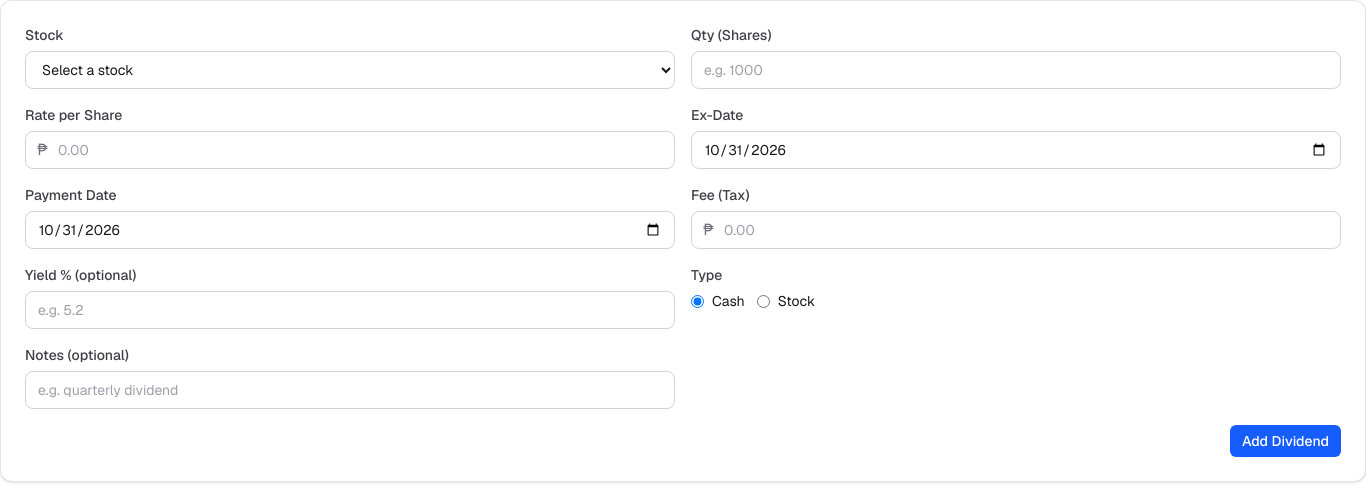
DividendForm › shows shares received field only for stock type
This screenshot has width=1366, height=500.
Expected: the field labelled "Shares Received" is not shown
Note: Switch to Stock → appears
Click the radio button labelled "Stock" at (763, 301), box [757, 294, 770, 308]
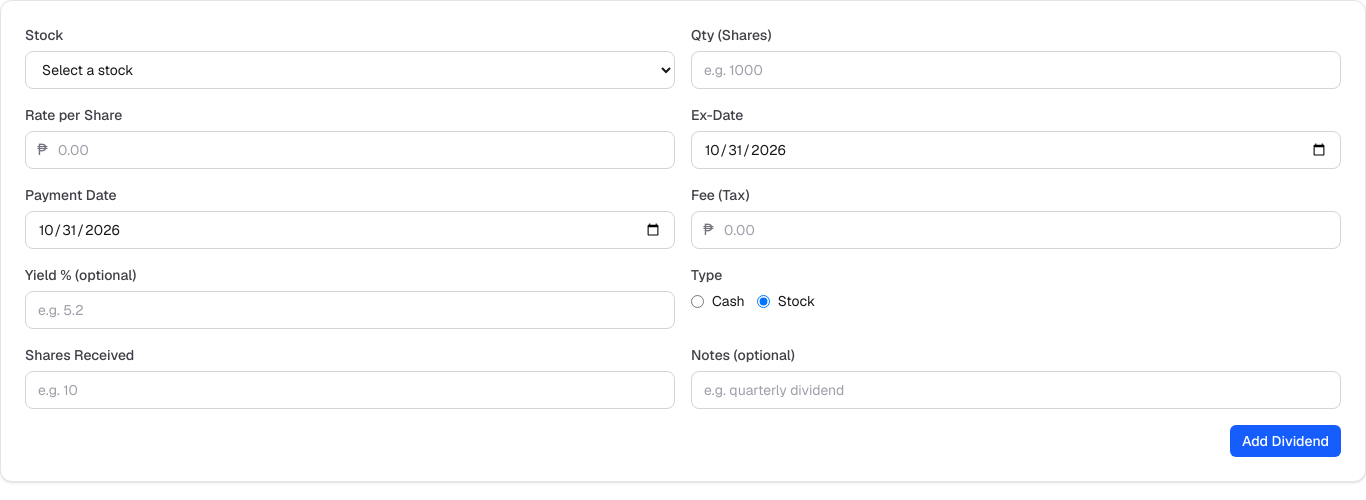
Now the number field labelled "Shares Received" is shown, box [25, 371, 675, 409]
Note: Switch back to Cash → hidden
Click the radio button labelled "Cash" at (698, 301), box [691, 294, 704, 308]
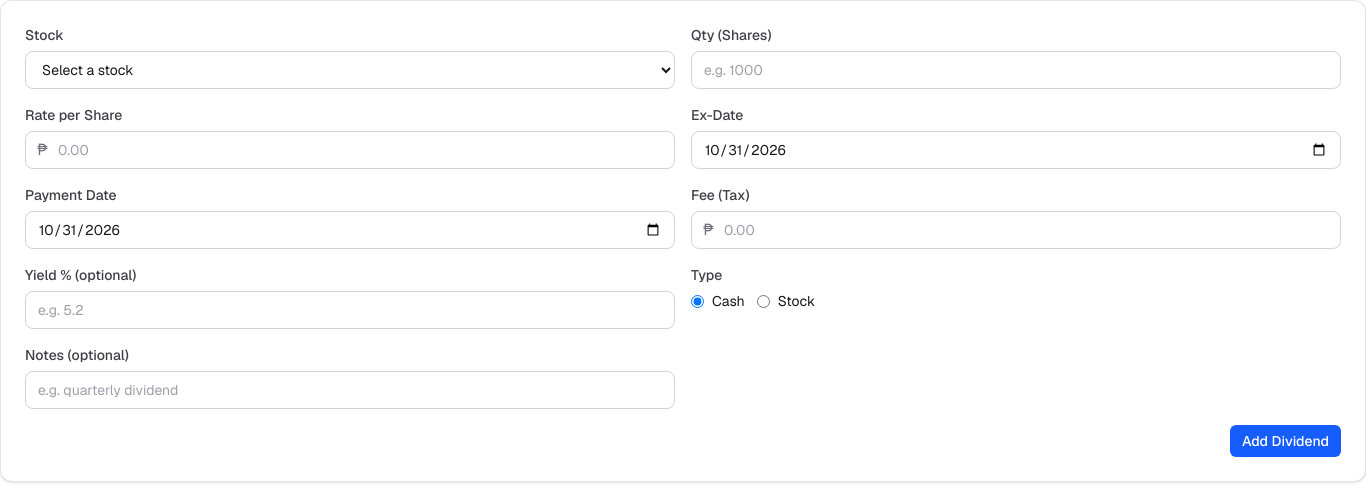
Now the label labelled "Shares Received" is gone
